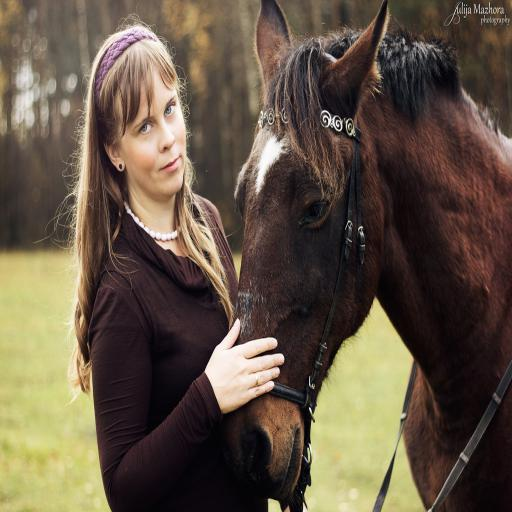horse: (227, 0, 511, 511)
